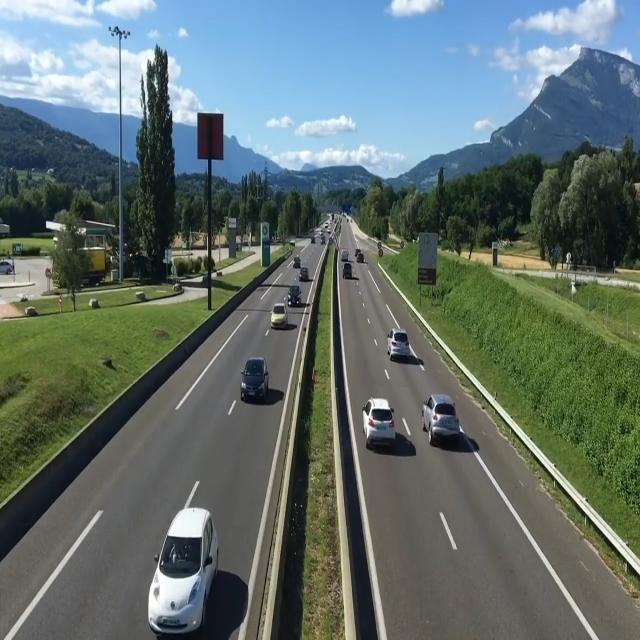Car: (147, 505, 218, 636), (420, 394, 461, 446), (362, 397, 398, 448), (240, 356, 268, 401), (387, 327, 412, 362), (269, 303, 289, 329), (286, 284, 303, 308), (0, 258, 15, 275)
Van: (340, 248, 350, 262)
